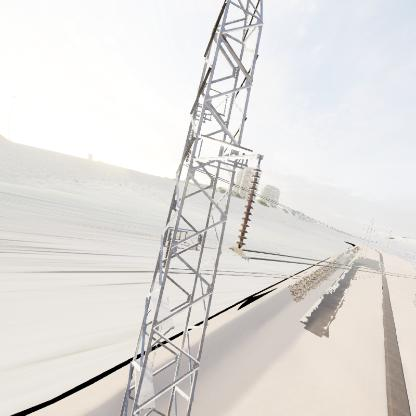insulator: (234, 166, 264, 253)
